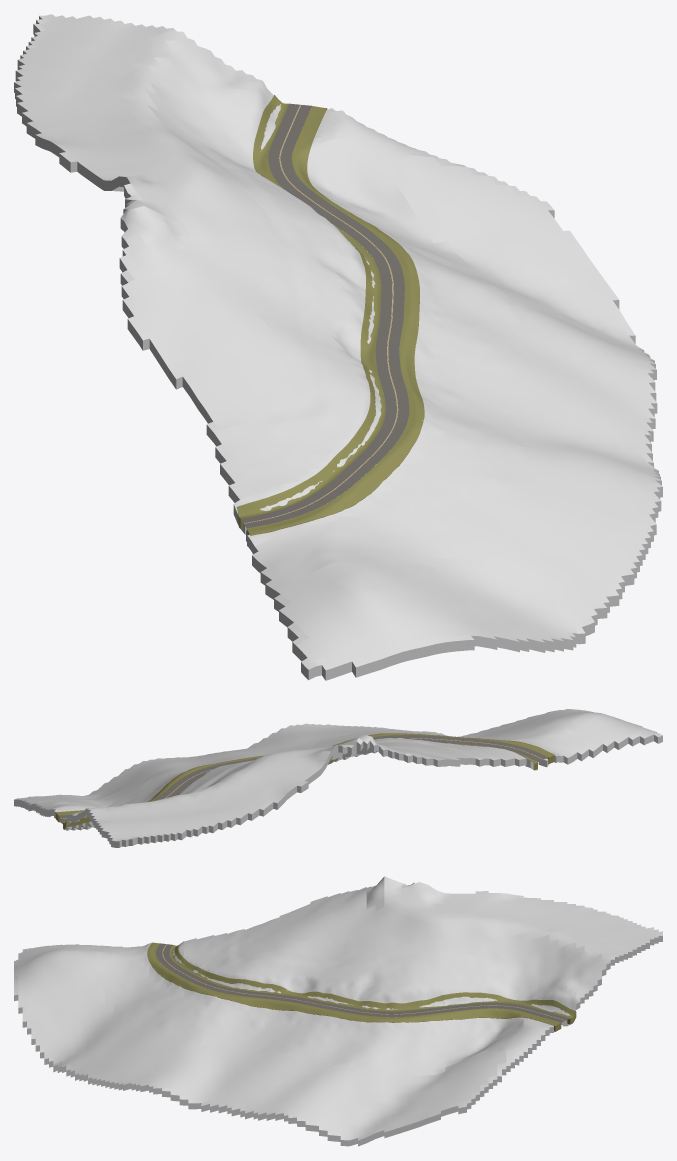
The model's file is conz_198.glb.
3 views of the same model, one above another, from view 1: azimuth 30°, elevation 25°; view 2: azimuth 150°, elevation 25°; view 3: azimuth 270°, elevation 25° (orthographic). The views are drawn at different scales.
Visible parts, largest first — view 1: terrain198, road198, verge198R, verge198L; view 2: terrain198, road198, verge198R, verge198L; view 3: terrain198, verge198R, verge198L, road198.
Boxes of the visible parts, x1,y1,x2,y2 form: terrain198: (14, 14, 662, 680); road198: (241, 103, 409, 528); verge198R: (246, 106, 424, 538); verge198L: (237, 95, 385, 528); terrain198: (14, 709, 662, 847); road198: (59, 735, 548, 821); verge198R: (55, 733, 555, 822); verge198L: (63, 742, 537, 829); terrain198: (14, 876, 662, 1146); verge198R: (147, 942, 561, 1031); verge198L: (169, 943, 576, 1024); road198: (156, 943, 569, 1022).
Bounding box in the file's own units: 190 × 77 × 298.
